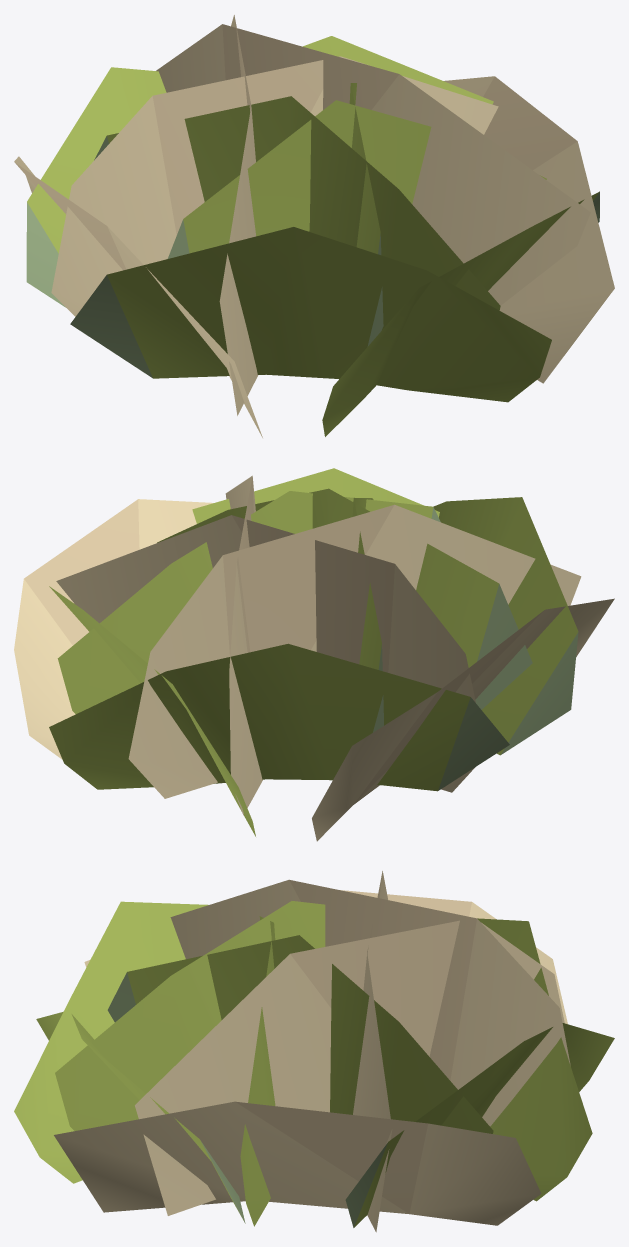
Rendered from itch_assetquest_pond_short_grass_patch_2.glb.
The picture shows the model from 3 angles, top to bottom: view 1: azimuth 30°, elevation 25°; view 2: azimuth 150°, elevation 25°; view 3: azimuth 270°, elevation 25°; orthographic projection. The views are drawn at different scales.
Visible parts, largest first — view 1: Short_Grass_Patch_2; view 2: Short_Grass_Patch_2; view 3: Short_Grass_Patch_2.
Part boxes in pixels (<box>): Short_Grass_Patch_2: <box>14,15,614,437</box>; Short_Grass_Patch_2: <box>14,468,614,841</box>; Short_Grass_Patch_2: <box>14,871,614,1232</box>.
Bounding box in the file's own units: 0.9035 × 0.4272 × 0.96.
